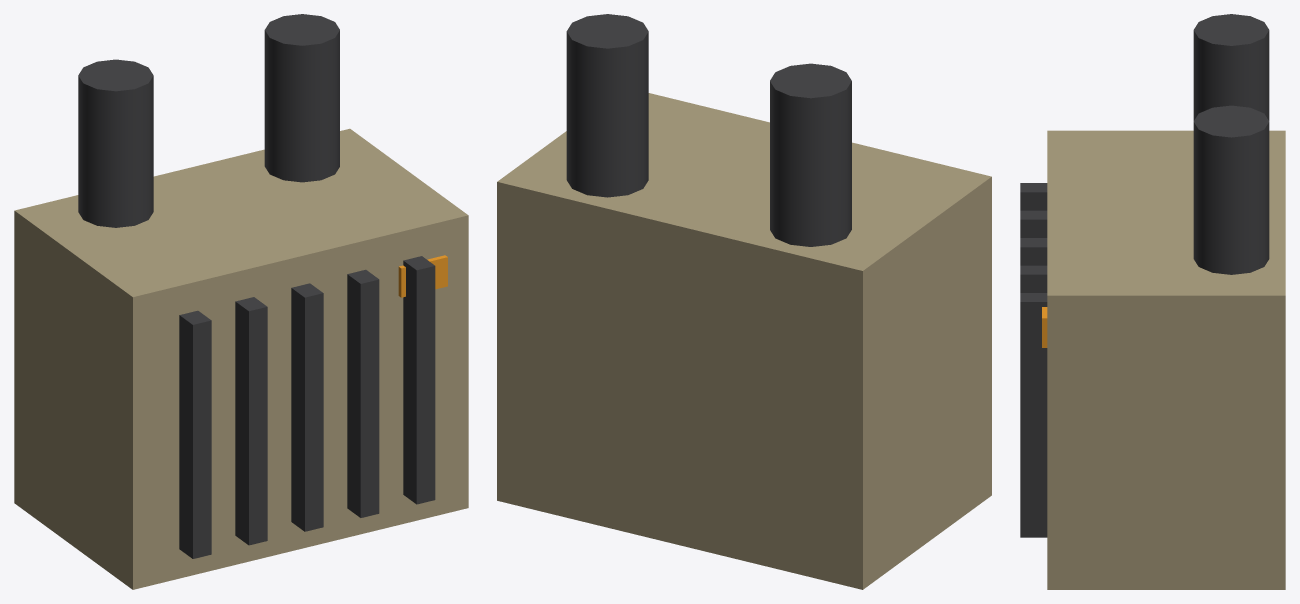
The model's file is rcs4_driver.obj.
3 renders of one model, left to right at view 1: azimuth 30°, elevation 25°; view 2: azimuth 150°, elevation 25°; view 3: azimuth 270°, elevation 25°, orthographic. The views are drawn at different scales.
Parts seen in each view (by area): view 1: rcs4_driver; view 2: rcs4_driver; view 3: rcs4_driver.
Boxes of the visible parts, x1,y1,x2,y2 form: rcs4_driver: (14, 14, 468, 589); rcs4_driver: (497, 14, 991, 589); rcs4_driver: (1020, 14, 1285, 589).
Size of the model in its own units: 0.36 by 0.44 by 0.245.
